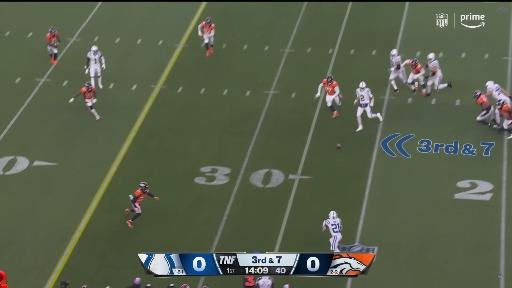Helmet: (427, 53, 437, 63), (140, 182, 149, 191), (329, 211, 338, 220), (474, 90, 482, 99), (326, 75, 333, 85), (391, 49, 398, 59), (497, 100, 505, 108), (486, 80, 495, 87), (86, 81, 92, 91), (360, 82, 366, 91), (92, 46, 98, 54), (412, 59, 418, 67), (206, 18, 211, 26), (50, 27, 55, 34), (182, 284, 190, 287), (202, 286, 209, 287)
Jersey: (487, 84, 507, 100), (324, 218, 342, 235), (356, 88, 372, 106), (323, 79, 339, 95), (87, 51, 102, 66), (406, 60, 422, 74), (427, 59, 441, 73), (135, 190, 149, 204), (201, 22, 215, 36), (477, 95, 490, 110), (81, 87, 95, 100), (499, 104, 511, 119), (47, 32, 58, 46), (391, 56, 401, 69)
Player: (126, 182, 159, 227), (355, 82, 382, 131), (425, 53, 452, 96), (70, 82, 99, 120), (316, 75, 342, 117), (474, 90, 498, 127), (85, 46, 105, 88), (323, 211, 342, 252), (403, 59, 425, 94), (390, 49, 406, 93), (198, 17, 215, 57), (486, 81, 510, 104), (497, 100, 511, 138), (47, 27, 60, 65), (182, 283, 191, 287), (201, 286, 209, 287)
